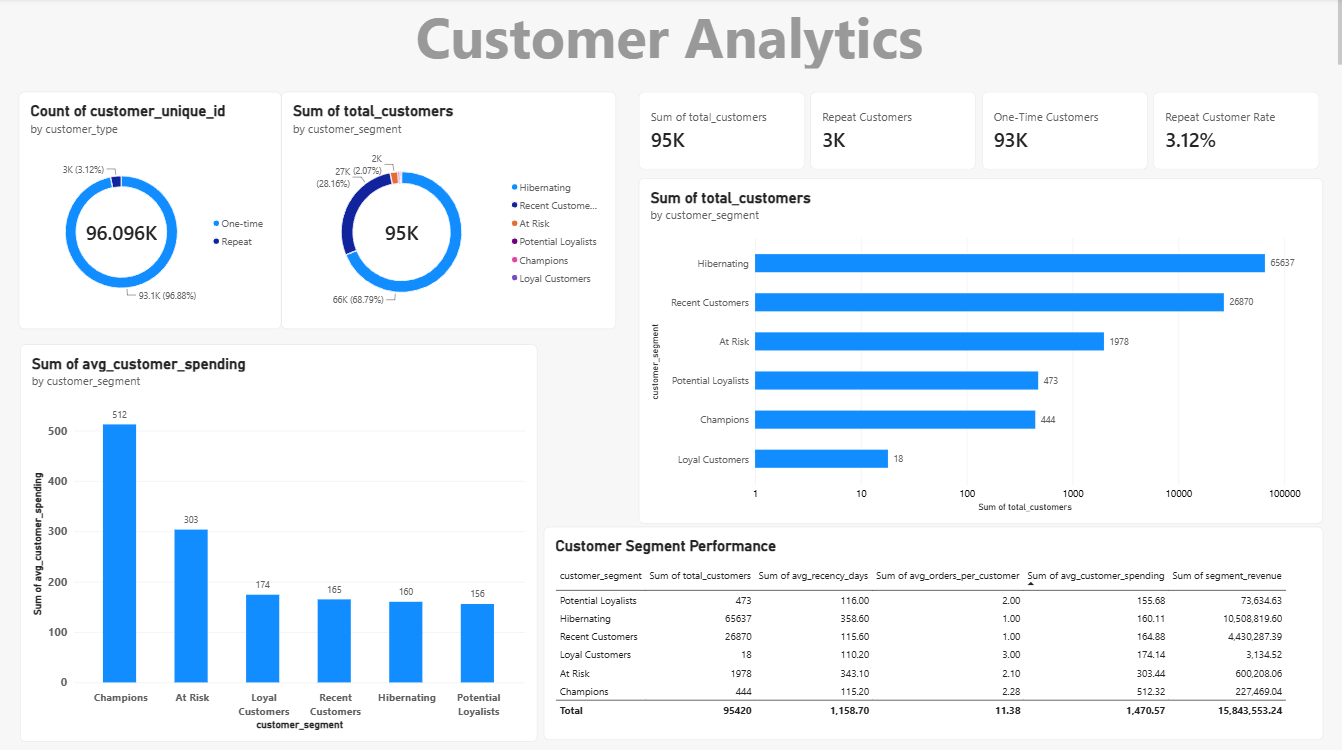

This screenshot's page, from the dashboard's own definition file:
{"tool":"powerbi","page":{"name":"Page 2","canvas":[1920,1080],"ordinal":1},"visuals":[{"type":"group","id":"g1","title":"Group 1","box":[26.8,133.9,1863.3,928.4],"z":0},{"type":"barChart","fields":{"Category":["customer_segment_summary.customer_segment"],"Y":["Sum(customer_segment_summary.total_customers)"]},"box":[912.4,257.5,977.7,494],"z":0,"group":"g1"},{"type":"textbox","box":[0,0,1920.4,100.9],"z":1000},{"type":"donutChart","fields":{"Category":["customer_segment_summary.customer_segment"],"Y":["Sum(customer_segment_summary.total_customers)"]},"box":[402.3,133.9,478.1,339.5],"z":1000,"group":"g1"},{"type":"cardVisual","fields":{"Data":["Sum(customer_segment_summary.total_customers)","dim_customers.Repeat Customers","dim_customers.One-Time Customers","dim_customers.Repeat Customer Rate"]},"box":[912.4,134,975.6,111.1],"z":2000,"group":"g1"},{"type":"donutChart","fields":{"Series":["dim_customers.customer_type"],"Y":["Count(dim_customers.customer_unique_id)"]},"box":[26.8,133.9,375.5,339.5],"z":3000,"group":"g1"},{"type":"columnChart","fields":{"Category":["customer_segment_summary.customer_segment"],"Y":["Sum(customer_segment_summary.avg_customer_spending)"]},"box":[29.4,494.2,738.9,568.1],"z":4000,"group":"g1"},{"type":"tableEx","title":"Customer Segment Performance","fields":{"Values":["customer_segment_summary.customer_segment","Sum(customer_segment_summary.total_customers)","Sum(customer_segment_summary.avg_recency_days)","Sum(customer_segment_summary.avg_orders_per_customer)","Sum(customer_segment_summary.avg_customer_spending)","Sum(customer_segment_summary.segment_revenue)"]},"box":[776.5,755.6,1113.6,304.6],"z":5000,"group":"g1"}]}

Visuals, with their boxes in screenshot pixels (x1, y1, x2, y2), scaled from the page's 1920x1080 canvas onto the 1342x750 screenshot:
"Group 1" group: [x1=19, y1=93, x2=1321, y2=738]
barChart - customer_segment_summary.customer_segment x Sum(customer_segment_summary.total_customers): [x1=638, y1=179, x2=1321, y2=522]
textbox: [x1=0, y1=0, x2=1341, y2=70]
donutChart - customer_segment_summary.customer_segment x Sum(customer_segment_summary.total_customers): [x1=281, y1=93, x2=615, y2=329]
cardVisual - Sum(customer_segment_summary.total_customers) x dim_customers.Repeat Customers: [x1=638, y1=93, x2=1320, y2=170]
donutChart - dim_customers.customer_type x Count(dim_customers.customer_unique_id): [x1=19, y1=93, x2=281, y2=329]
columnChart - customer_segment_summary.customer_segment x Sum(customer_segment_summary.avg_customer_spending): [x1=21, y1=343, x2=537, y2=738]
"Customer Segment Performance" tableEx: [x1=543, y1=525, x2=1321, y2=736]
